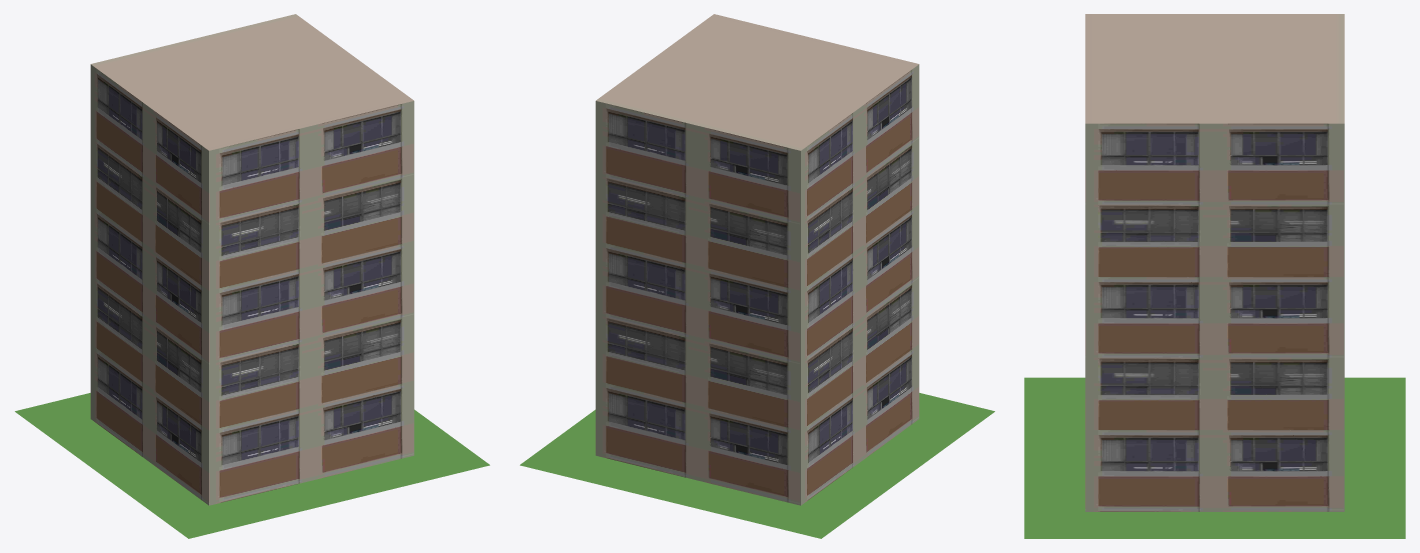
Rendered from Building.004.gltf.
3 renders of one model, left to right at view 1: azimuth 30°, elevation 25°; view 2: azimuth 150°, elevation 25°; view 3: azimuth 270°, elevation 25°, orthographic. The views are drawn at different scales.
Parts seen in each view (by area): view 1: Building.004, Plane.004; view 2: Building.004, Plane.004; view 3: Building.004, Plane.004.
Part boxes in pixels (<box>): Building.004: <box>90,14,414,505</box>; Plane.004: <box>15,393,489,538</box>; Building.004: <box>595,14,919,505</box>; Plane.004: <box>520,393,994,538</box>; Building.004: <box>1085,14,1344,511</box>; Plane.004: <box>1024,377,1405,538</box>.
Bounding box in the file's own units: 10.5 × 11.83 × 10.5.
Materials: 2 (1 with a texture image).
